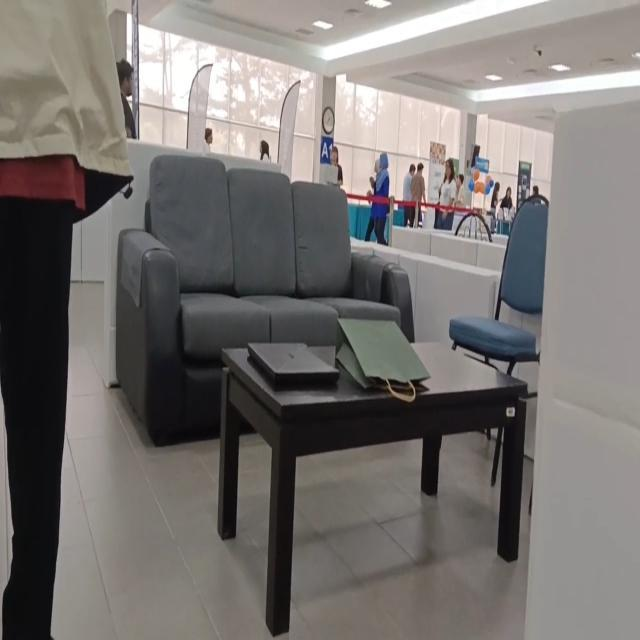sandalye: (146, 155, 268, 360), (228, 168, 336, 346), (449, 196, 548, 375), (292, 181, 400, 323)
